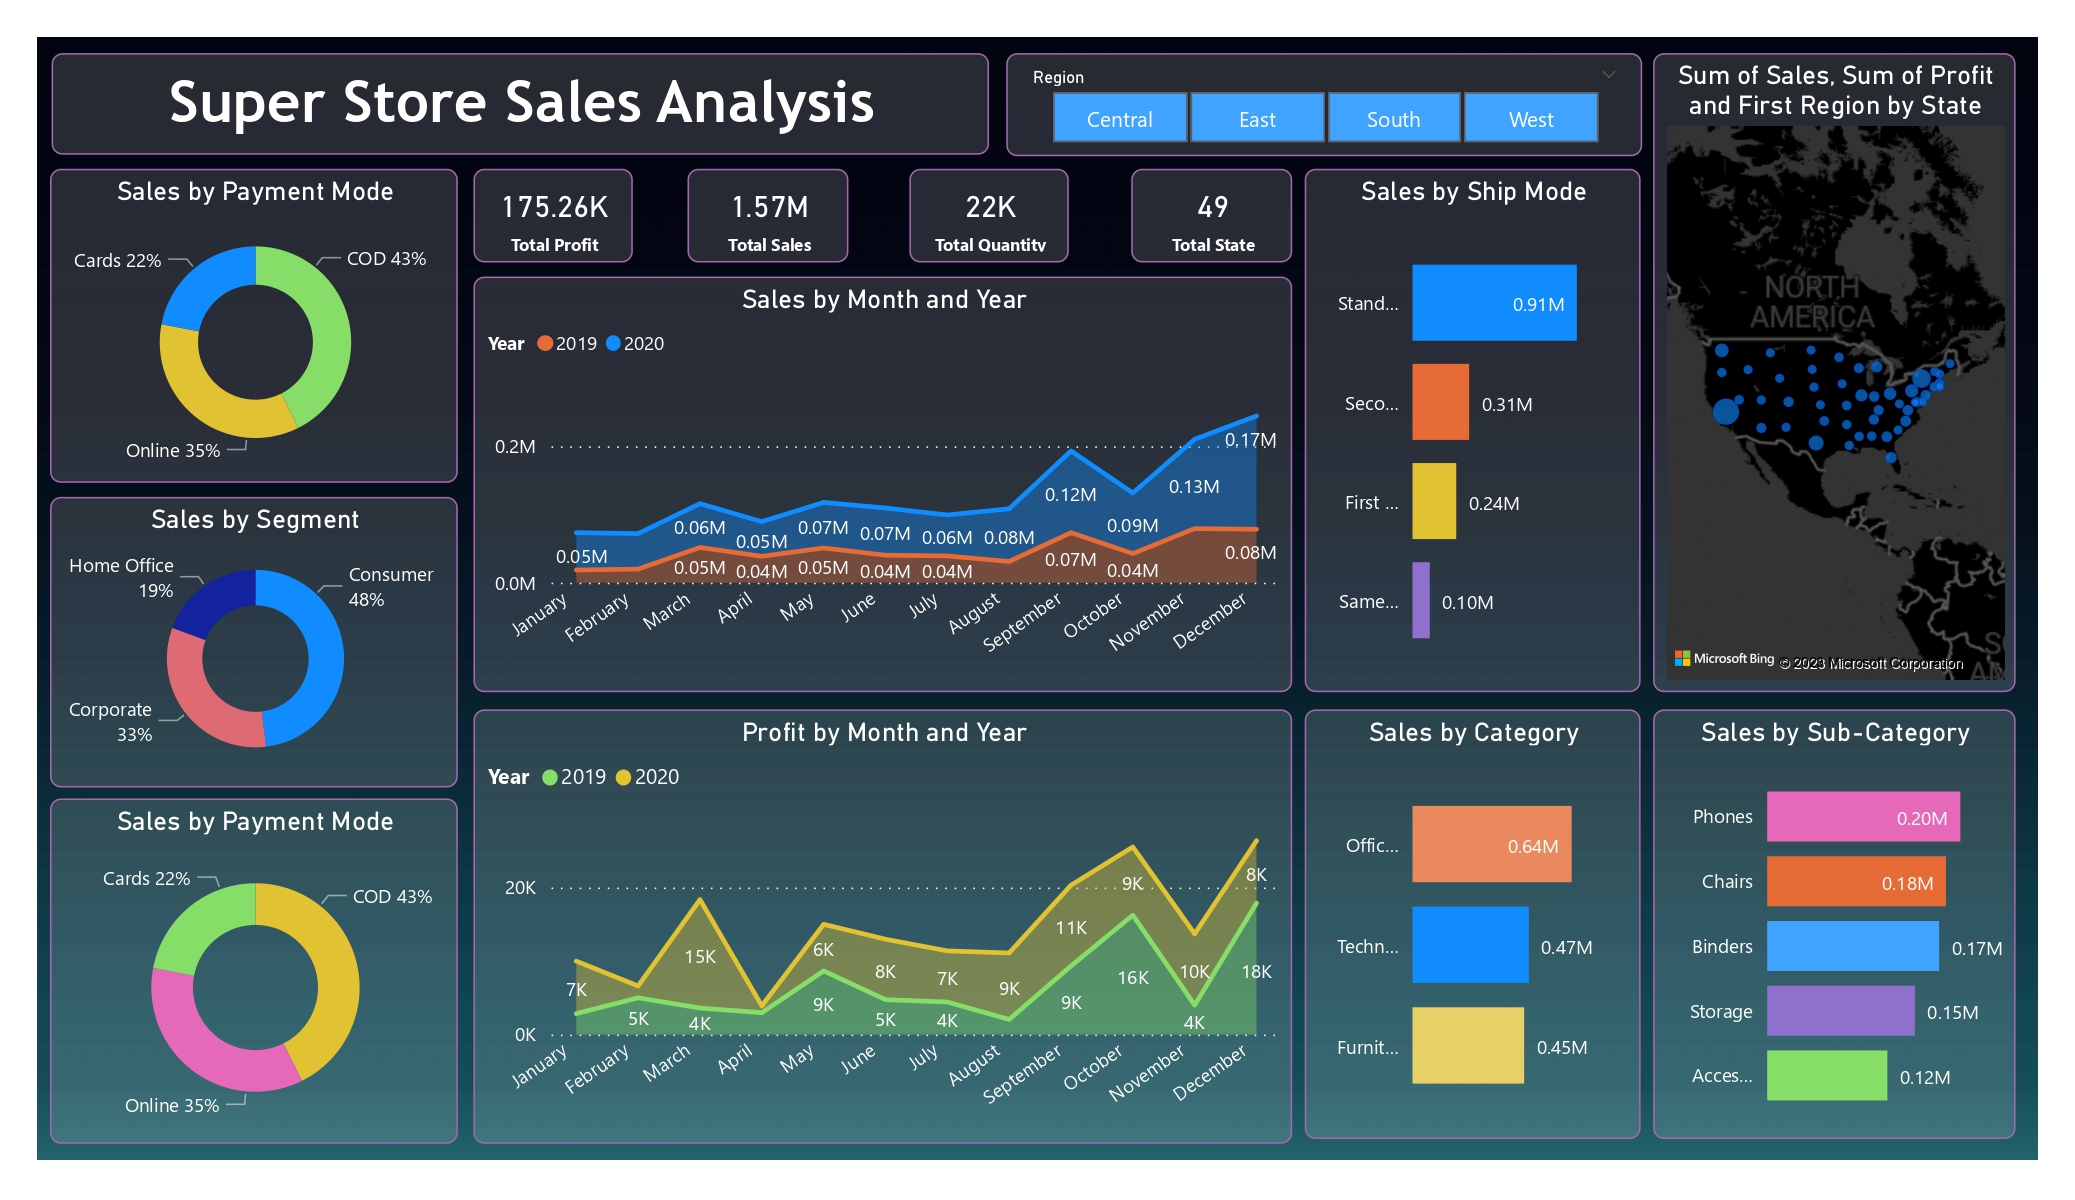

The page's visual inventory and layout, read from the dashboard file:
{"tool":"powerbi","page":{"name":"Page 1","canvas":[1280,720],"ordinal":0},"visuals":[{"type":"clusteredBarChart","title":" Sales by Category","fields":{"Category":["Sheet1.Category"],"Y":["Sum(Sheet1.Sales)"]},"box":[811.2,430,215,275],"z":0},{"type":"clusteredBarChart","title":"Sales by Sub-Category","fields":{"Category":["Sheet1.Sub-Category"],"Y":["Sum(Sheet1.Sales)"]},"box":[1033.8,430,232.5,275],"z":1000},{"type":"clusteredBarChart","title":"Sales by Ship Mode","fields":{"Category":["Sheet1.Ship Mode"],"Y":["Sum(Sheet1.Sales)"]},"box":[811.2,83.8,215,335],"z":2000},{"type":"stackedAreaChart","title":"Sales by Month and Year","fields":{"Category":["Sheet1.Order Date.Variation.Date Hierarchy.Month","Sheet1.Order Date.Variation.Date Hierarchy.Day"],"Y":["Sum(Sheet1.Sales)"],"Series":["Sheet1.Order Date.Variation.Date Hierarchy.Year"]},"box":[278.8,152.5,523.8,266.2],"z":3000},{"type":"stackedAreaChart","title":"Profit by Month and Year","fields":{"Category":["Sheet1.Order Date.Variation.Date Hierarchy.Month","Sheet1.Order Date.Variation.Date Hierarchy.Day"],"Y":["Sum(Sheet1.Profit)"],"Series":["Sheet1.Order Date.Variation.Date Hierarchy.Year"]},"box":[278.8,430,523.8,277.5],"z":4000},{"type":"map","fields":{"Category":["Sheet1.State"],"Size":["Sum(Sheet1.Sales)"]},"box":[1033.8,10,232.5,408.8],"z":5000},{"type":"donutChart","title":" Sales by Payment Mode","fields":{"Category":["Sheet1.Payment Mode"],"Y":["Sum(Sheet1.Sales)"]},"box":[8.2,83.7,260.7,201.7],"z":6000},{"type":"donutChart","title":" Sales by Payment Mode","fields":{"Category":["Sheet1.Payment Mode"],"Y":["Sum(Sheet1.Sales)"]},"box":[8.2,487.1,260.7,220.9],"z":7000},{"type":"slicer","fields":{"Values":["Sheet1.Region"]},"box":[620,10,407.1,65.7],"z":8000},{"type":"textbox","box":[8.8,10,600,65],"z":9000},{"type":"donutChart","title":"Sales by Segment","fields":{"Category":["Sheet1.Segment"],"Y":["Sum(Sheet1.Sales)"]},"box":[8.2,293.7,260.7,186.6],"z":10000},{"type":"card","fields":{"Values":["Sum(Sheet1.Profit)"]},"box":[278.8,83.8,102.5,60],"z":11000},{"type":"card","fields":{"Values":["Sum(Sheet1.Sales)"]},"box":[416.2,83.8,102.5,60],"z":12000},{"type":"card","fields":{"Values":["Sum(Sheet1.Quantity)"]},"box":[557.5,83.8,102.5,60],"z":13000},{"type":"card","fields":{"Values":["Count(Sheet1.State)"]},"box":[700,83.8,102.5,60],"z":14000}]}

Visuals, with their boxes in screenshot pixels (x1, y1, x2, y2):
" Sales by Category" clusteredBarChart: [1305, 709, 1641, 1139]
"Sales by Sub-Category" clusteredBarChart: [1653, 709, 2016, 1139]
"Sales by Ship Mode" clusteredBarChart: [1305, 168, 1641, 692]
"Sales by Month and Year" stackedAreaChart: [473, 276, 1292, 692]
"Profit by Month and Year" stackedAreaChart: [473, 709, 1292, 1143]
map - Sheet1.State x Sum(Sheet1.Sales): [1653, 53, 2016, 692]
" Sales by Payment Mode" donutChart: [50, 168, 458, 483]
" Sales by Payment Mode" donutChart: [50, 799, 458, 1144]
slicer - Sheet1.Region: [1006, 53, 1642, 156]
textbox: [51, 53, 989, 155]
"Sales by Segment" donutChart: [50, 496, 458, 788]
card - Sum(Sheet1.Profit): [473, 168, 633, 262]
card - Sum(Sheet1.Sales): [688, 168, 848, 262]
card - Sum(Sheet1.Quantity): [909, 168, 1069, 262]
card - Count(Sheet1.State): [1131, 168, 1291, 262]
